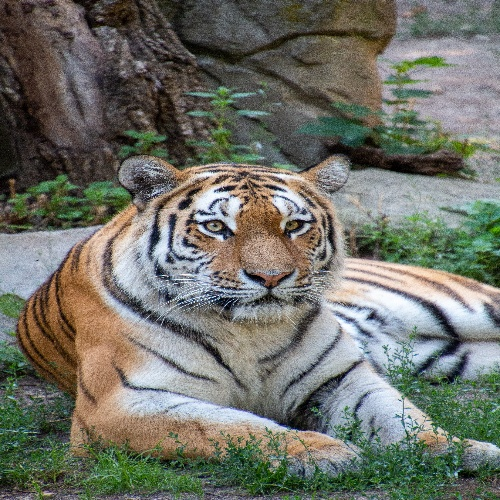tiger: (40, 116, 490, 492)
